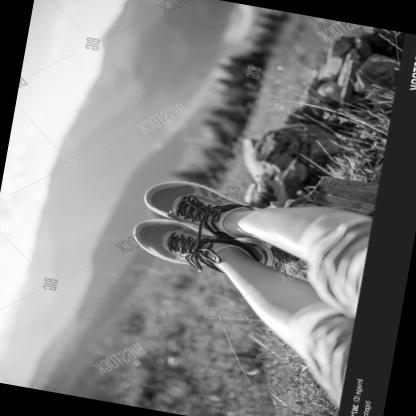ankle: (233, 233, 237, 236), (233, 242, 235, 244)
heel: (269, 257, 271, 259), (258, 239, 260, 240)
left_foot: (141, 174, 273, 242)
pinky: (179, 183, 183, 186), (147, 247, 149, 249)
right_foot: (130, 220, 276, 279)
toe: (154, 209, 157, 211), (149, 224, 151, 226)
